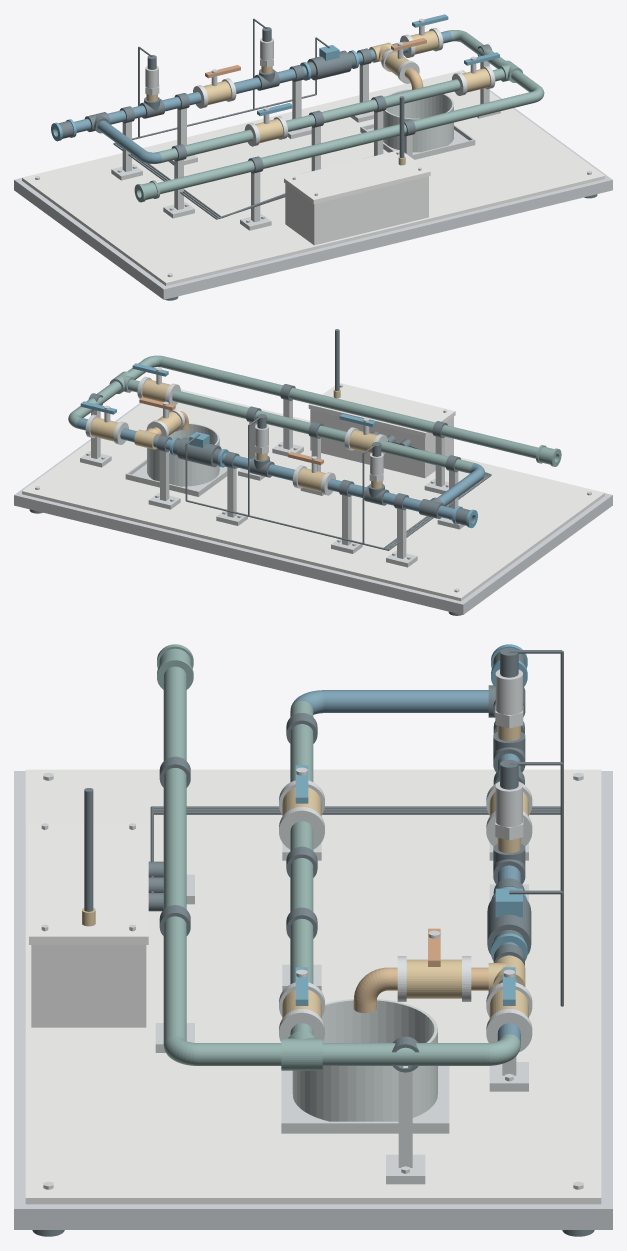
The model's file is bench_layout.glb.
3 renders of one model, top to bottom at view 1: azimuth 30°, elevation 25°; view 2: azimuth 150°, elevation 25°; view 3: azimuth 270°, elevation 25°, orthographic. The views are drawn at different scales.
Visible parts, largest first — view 1: removable_deck, rail_front, electronics_shell, return_out, electronics_lid, open_measuring_vessel, rail_left, B_to_Bload, B_to_switch, removable_catch_tray, Q_meter_envelope, B_vertical (+6 smaller); view 2: removable_deck, rail_rear, return_out, electronics_shell, electronics_lid, rail_left, open_measuring_vessel, B_to_Bload, B_to_switch, removable_catch_tray, Q_meter_envelope, B_vertical (+9 smaller); view 3: removable_deck, rail_right, electronics_lid, open_measuring_vessel, electronics_shell, return_out, rail_front, rail_rear, removable_catch_tray, B_vertical, return_upper, B_to_Bload (+21 smaller).
Part boxes in pixels (x1=…): removable_deck: x1=22, y1=70, x2=604, y2=285; rail_front: x1=158, y1=176, x2=612, y2=299; electronics_shell: x1=285, y1=176, x2=428, y2=245; return_out: x1=157, y1=91, x2=535, y2=193; electronics_lid: x1=284, y1=150, x2=430, y2=203; open_measuring_vessel: x1=383, y1=89, x2=453, y2=152; rail_left: x1=19, y1=183, x2=162, y2=295; B_to_Bload: x1=285, y1=79, x2=460, y2=131; B_to_switch: x1=159, y1=129, x2=253, y2=162; removable_catch_tray: x1=360, y1=123, x2=475, y2=159; Q_meter_envelope: x1=307, y1=50, x2=351, y2=80; B_vertical: x1=97, y1=120, x2=145, y2=159; removable_deck: x1=22, y1=389, x2=604, y2=601; rail_rear: x1=14, y1=491, x2=468, y2=614; return_out: x1=160, y1=356, x2=538, y2=458; electronics_shell: x1=310, y1=409, x2=453, y2=478; electronics_lid: x1=308, y1=383, x2=455, y2=437; rail_left: x1=464, y1=498, x2=607, y2=610; open_measuring_vessel: x1=147, y1=423, x2=219, y2=486; B_to_Bload: x1=172, y1=390, x2=346, y2=442; B_to_switch: x1=381, y1=440, x2=473, y2=473; removable_catch_tray: x1=125, y1=459, x2=238, y2=496; Q_meter_envelope: x1=177, y1=437, x2=221, y2=467; B_vertical: x1=437, y1=470, x2=482, y2=505; removable_deck: x1=25, y1=769, x2=601, y2=1204; rail_right: x1=37, y1=1204, x2=589, y2=1229; electronics_lid: x1=29, y1=822, x2=148, y2=944; open_measuring_vessel: x1=292, y1=999, x2=437, y2=1121; electronics_shell: x1=31, y1=945, x2=146, y2=1027; return_out: x1=163, y1=666, x2=186, y2=1043; rail_front: x1=14, y1=771, x2=36, y2=1229; rail_rear: x1=590, y1=771, x2=612, y2=1229; removable_catch_tray: x1=281, y1=1066, x2=449, y2=1133; B_vertical: x1=325, y1=690, x2=488, y2=712; return_upper: x1=322, y1=1043, x2=486, y2=1065; B_to_Bload: x1=290, y1=821, x2=313, y2=984.
Bounding box in the file's own units: 0.9 × 0.256 × 0.52.
